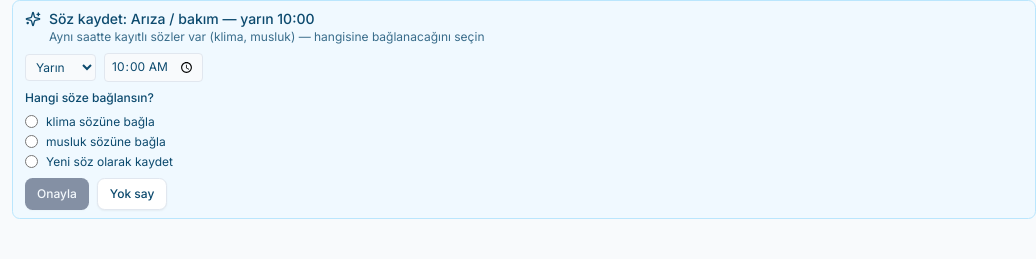
Test: Q1-b (kurucu 10-17) — 'hangi söze bağlansın?' seçimi › seçenekler görünür (iki söz + yeni söz); seçim yapılmadan Onayla PASİF; seçim isteğe 'attach' olarak gider; bilgi seçilen konuyla
Expected: the element with test id "attach-choice" shows "Hangi söze bağlansın?", [25,90,154,105]
Expected: the radio button labelled "klima sözüne bağla" is shown, [25,115,38,128]
Click the radio button labelled "musluk sözüne bağla" at (32, 142), box [25,135,38,148]
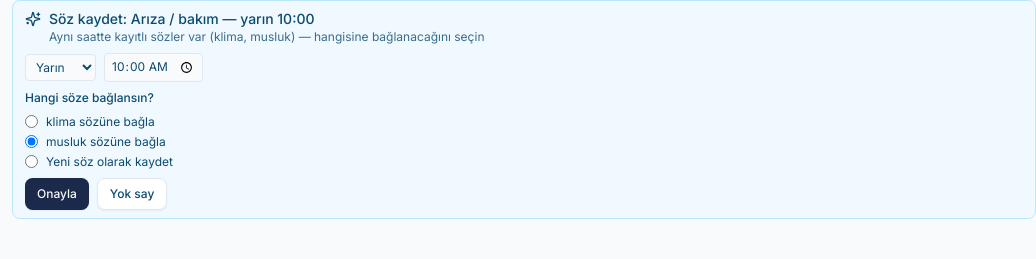
Now the button "Onayla" is enabled
Click the button "Onayla" at (57, 194), box [25,178,89,210]
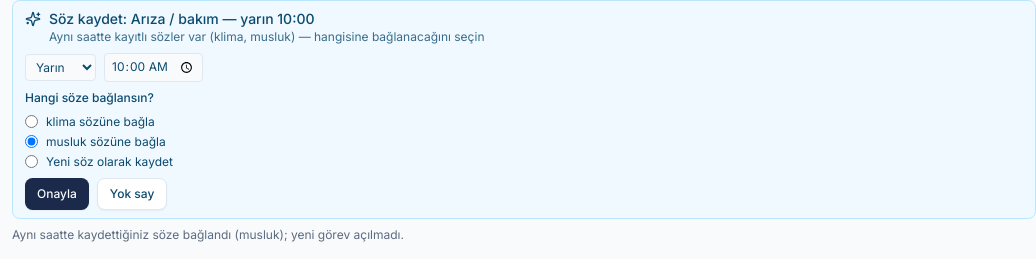
Now the message with test id "action-suggestion-notice" reads "Aynı saatte kaydettiğiniz söze bağlandı (musluk); yeni görev açılmadı.", box [12,227,404,242]
